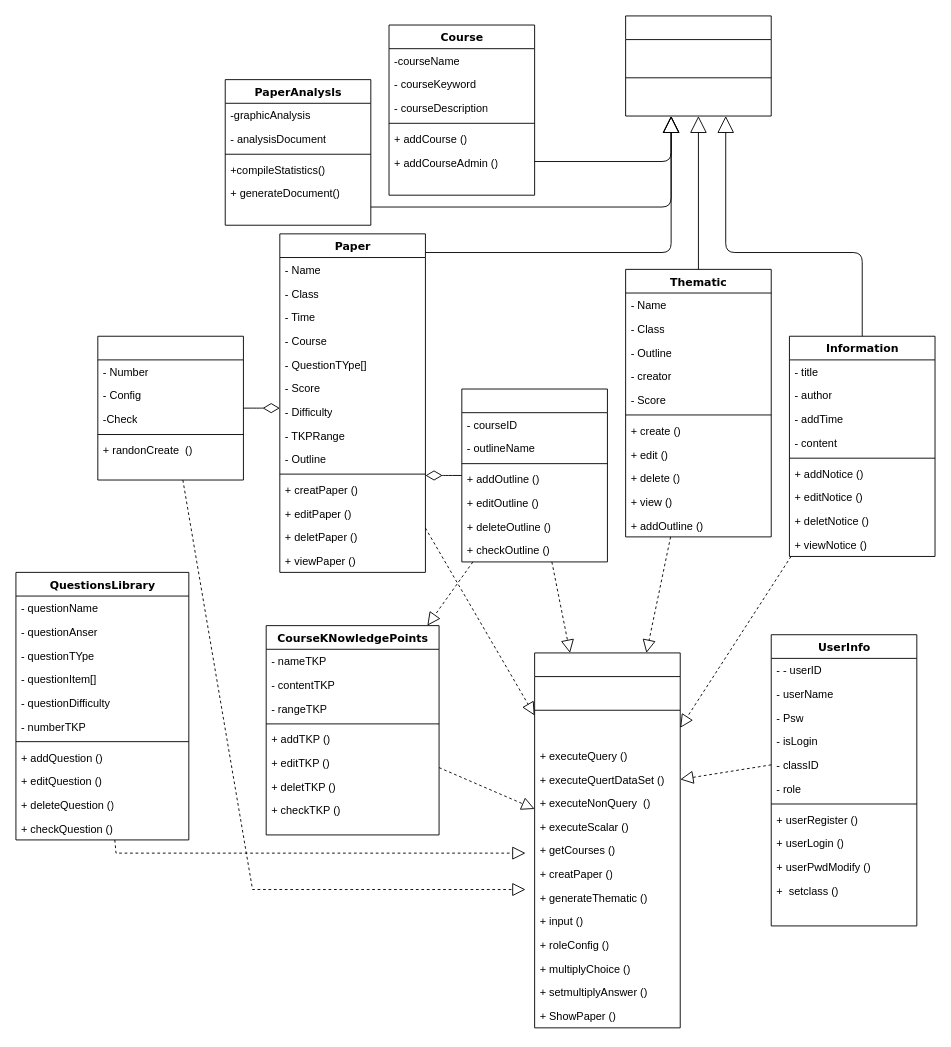
This 951x1047 diagram has some shape labels left out. The shapes that lost their labels are listed below. From the top down, each one's box as (x1, y1, x2, y2) in pixels, then its label:
(625, 15, 771, 116): ServerControl
(97, 335, 243, 480): PaperGenerate
(461, 388, 607, 562): CourseOutline
(534, 652, 680, 1028): DataOperation
